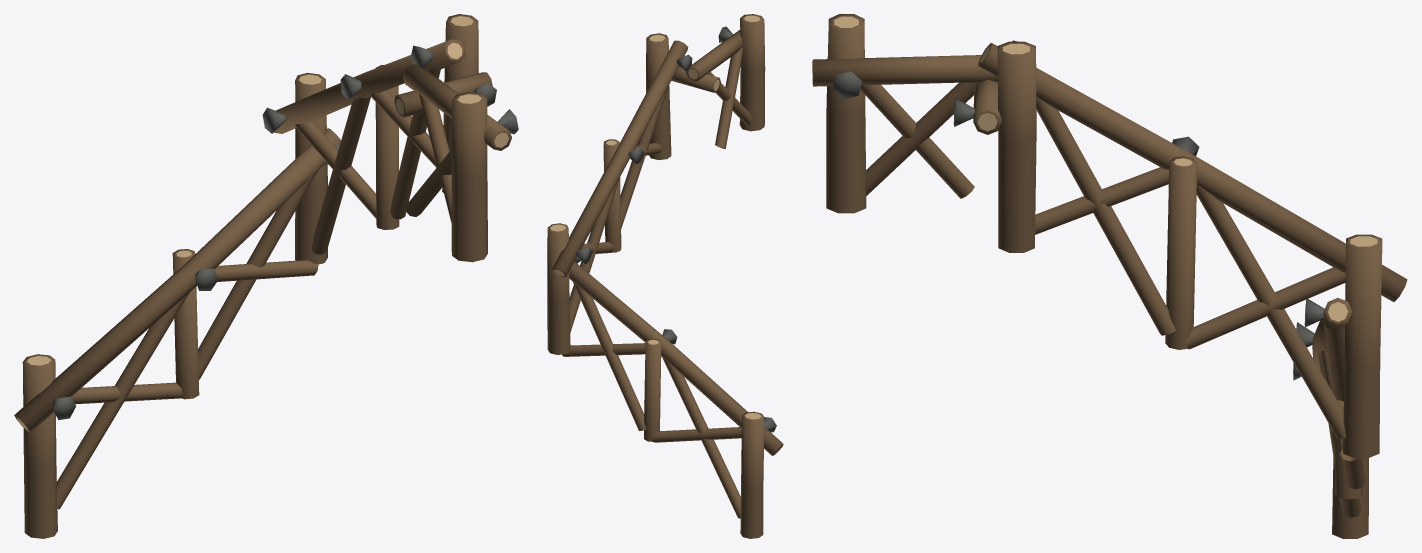
Rendered from rpgpp_ag_stairs_interior_02c_4m_handrail_02.fbx.
3 views of the same model, side by side, from view 1: azimuth 30°, elevation 25°; view 2: azimuth 150°, elevation 25°; view 3: azimuth 270°, elevation 25° (orthographic). The views are drawn at different scales.
Visible parts, largest first — view 1: rpgpp_ag_stairs_interior_02c_4m_handrail_02; view 2: rpgpp_ag_stairs_interior_02c_4m_handrail_02; view 3: rpgpp_ag_stairs_interior_02c_4m_handrail_02.
Part boxes in pixels (x1,y1,x2,y2): rpgpp_ag_stairs_interior_02c_4m_handrail_02: (14,14,518,538); rpgpp_ag_stairs_interior_02c_4m_handrail_02: (547,14,783,538); rpgpp_ag_stairs_interior_02c_4m_handrail_02: (812,14,1407,538).
Size of the model in its own units: 3.35 by 5.32 by 4.47.
